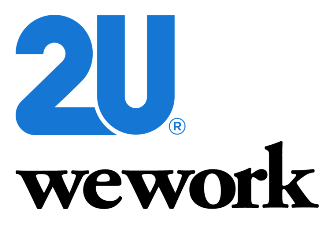wework: (14, 139, 321, 212)
